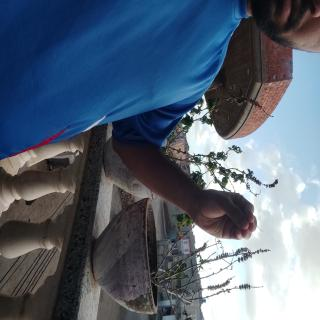HA: (138, 80, 182, 171)
